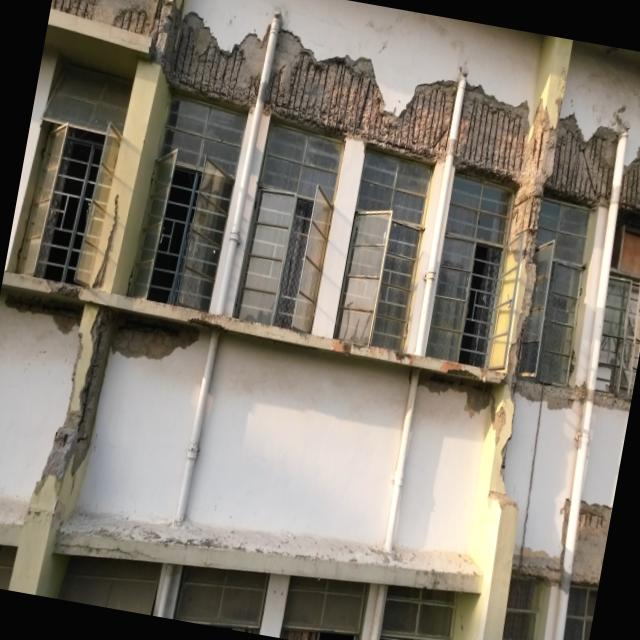Corrosion stain: (434, 361, 474, 376), (332, 340, 358, 353), (413, 355, 425, 358)
Incomplete Plaster Work: (111, 315, 199, 359), (421, 374, 491, 417)
Spalling: (455, 85, 627, 373), (263, 29, 455, 162), (50, 0, 264, 107), (71, 307, 116, 473), (489, 411, 515, 505), (43, 417, 79, 482), (619, 147, 640, 217), (577, 502, 609, 544)
